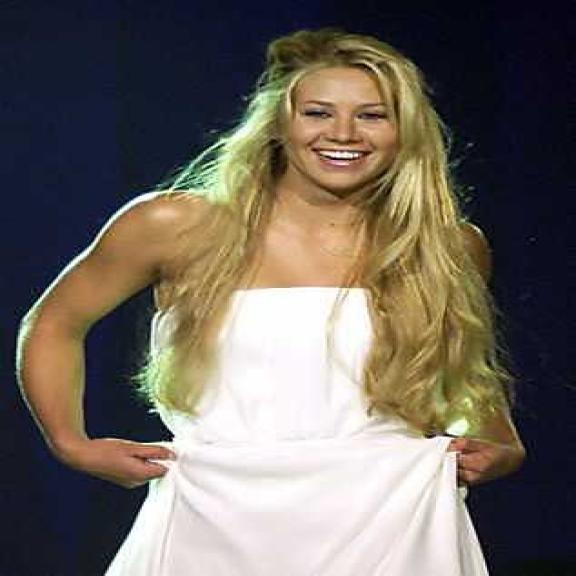face: (270, 67, 399, 193)
